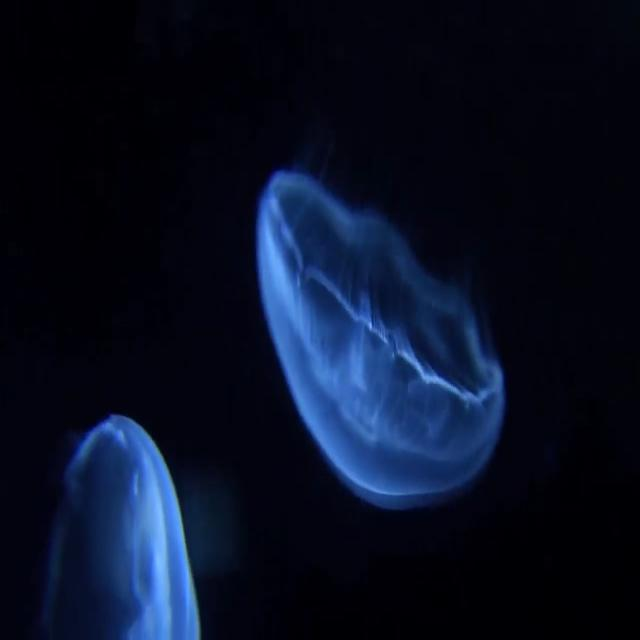Moon-jellyfish: (256, 172, 504, 508), (42, 416, 199, 639)
